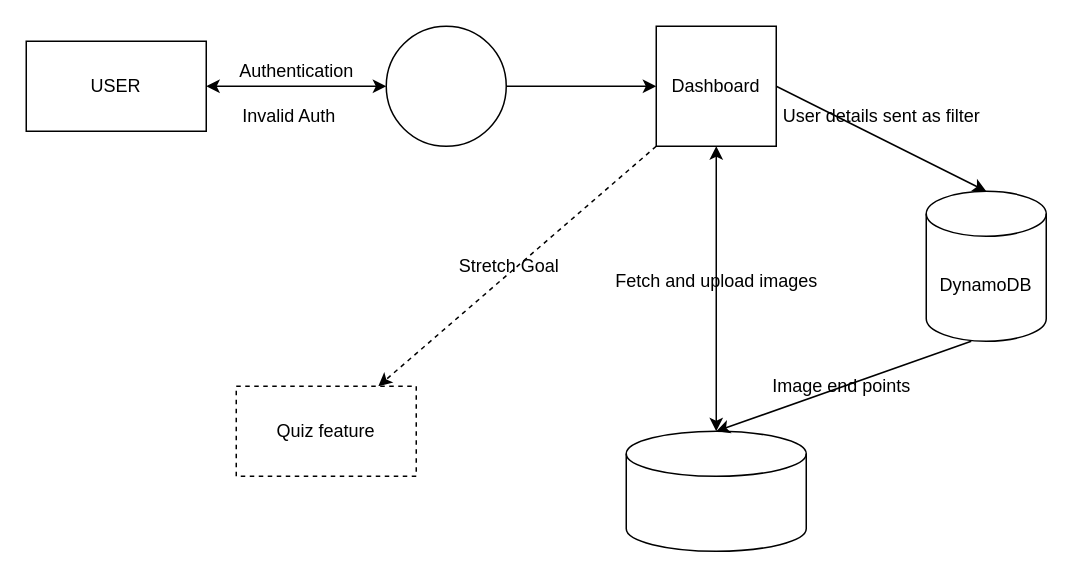
This 1073x578 diagram has some shape labels left out. The centre of each missing label's shape, as x and y in pixels:
LOGIN: the point at 445,85
S3: the point at 715,490
